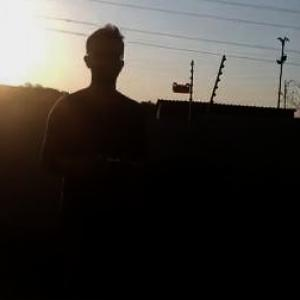follow: (38, 21, 151, 299)
